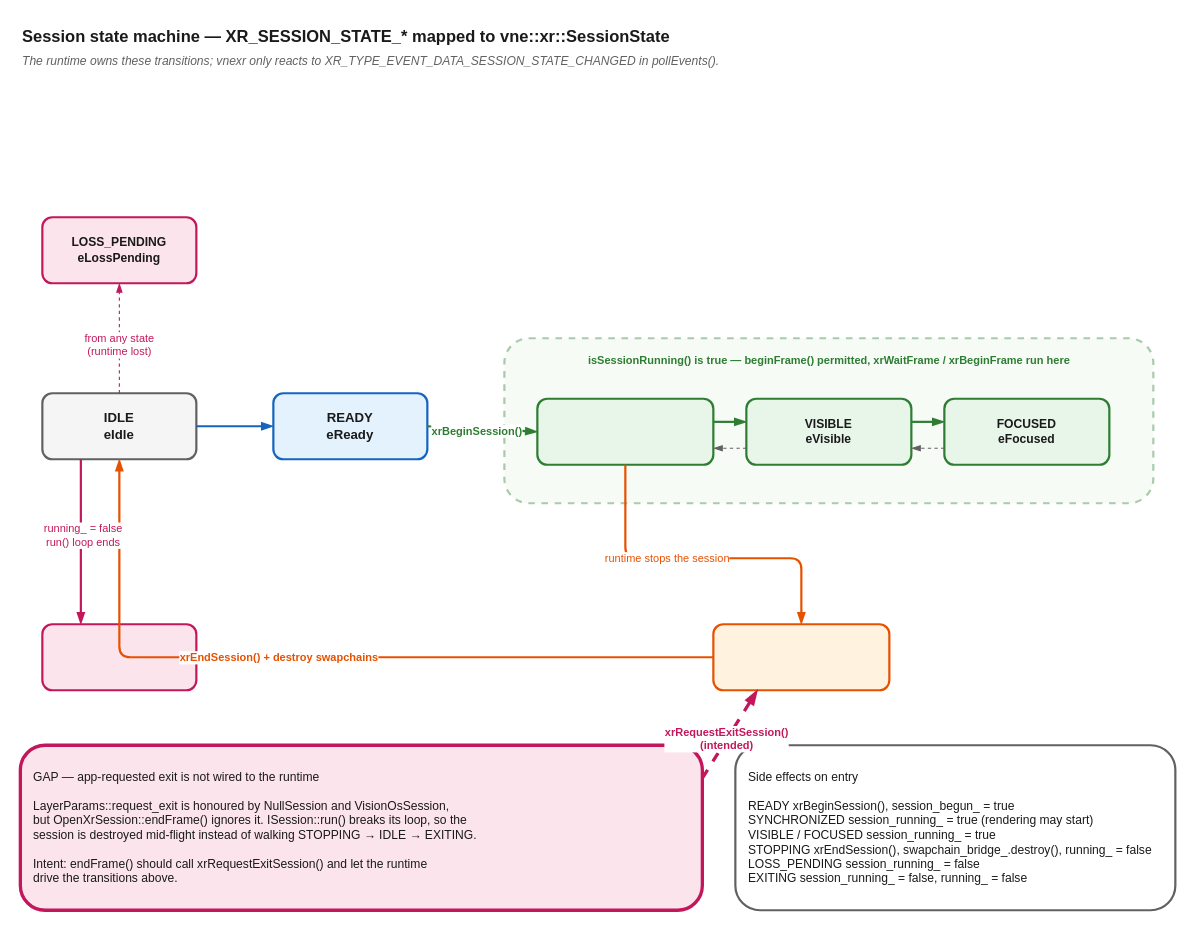
Image size: 1196x931. Some labels were removed from this diagram. The centre of each missing label's shape, as x and y in pixels:
EXITING eExiting: pixel 119 657
STOPPING eStopping: pixel 801 657
SYNCHRONIZED eSynchronized: pixel 625 431
